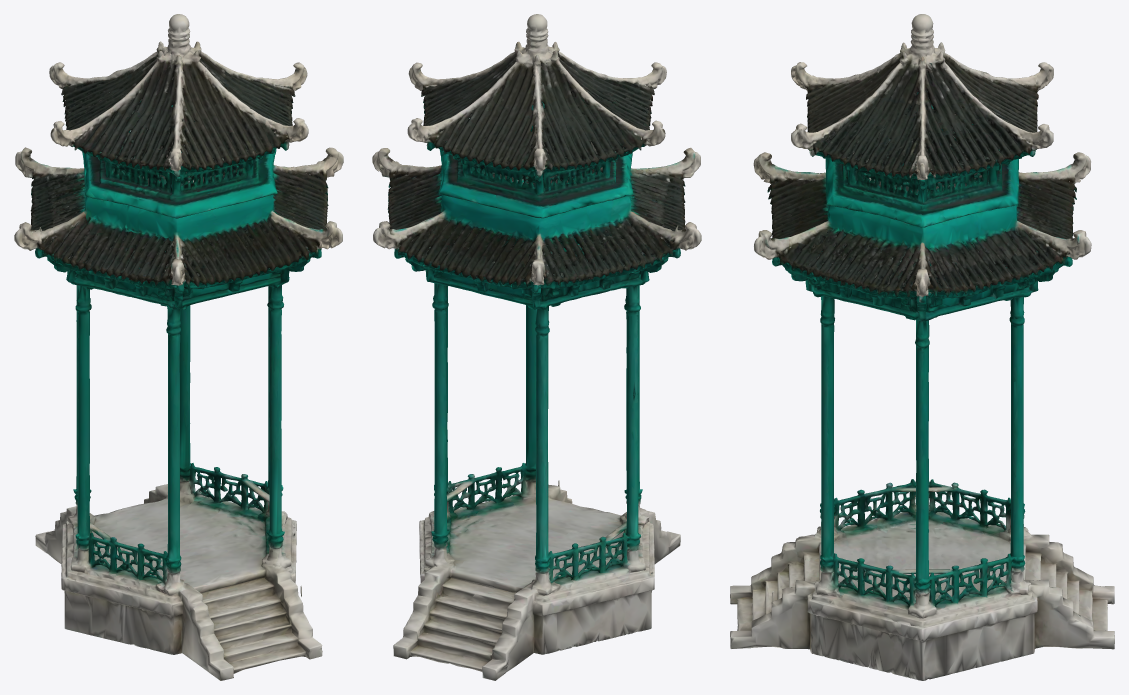
File: bq_herb_pav.hd.glb
3 views of the same model, side by side, from view 1: azimuth 30°, elevation 25°; view 2: azimuth 150°, elevation 25°; view 3: azimuth 270°, elevation 25° (orthographic). The views are drawn at different scales.
Bounding box in the file's own units: 1.11 × 1.9 × 1.09.
1 material, 1 textured.
